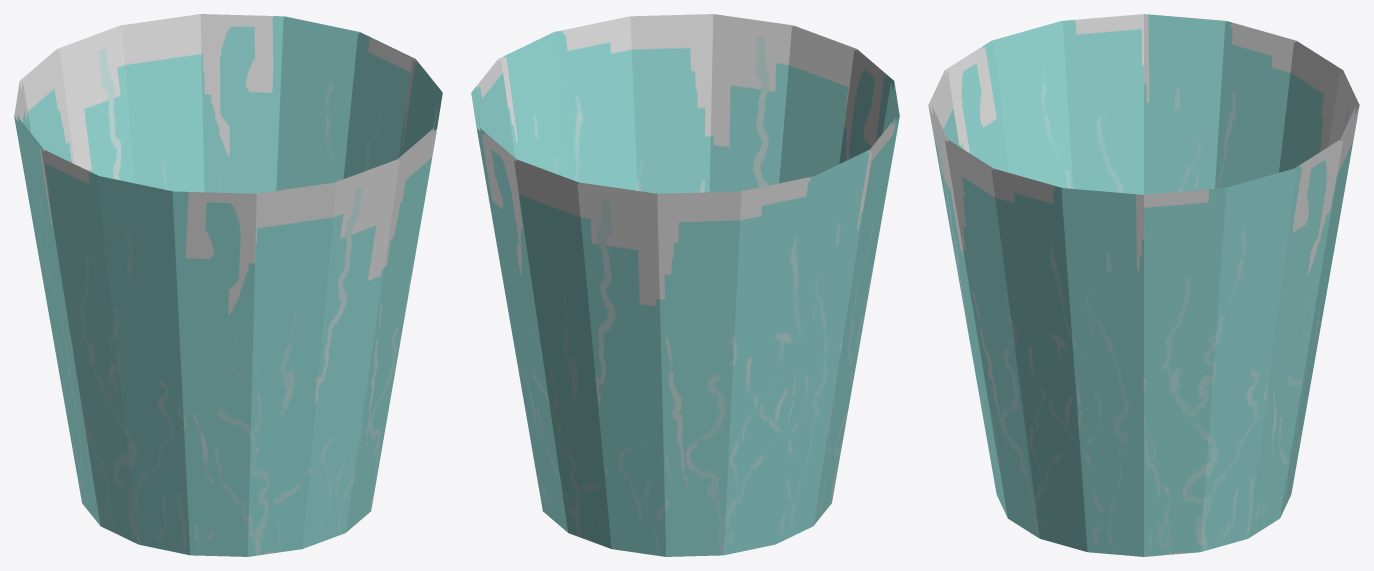
The model's file is SOS_props_LightningSparks_B_02.fbx.
3 views of the same model, side by side, from view 1: azimuth 30°, elevation 25°; view 2: azimuth 150°, elevation 25°; view 3: azimuth 270°, elevation 25° (orthographic).
Parts seen in each view (by area): view 1: Lightning Sparks B; view 2: Lightning Sparks B; view 3: Lightning Sparks B.
Boxes of the visible parts, left/top/right/bottom form: Lightning Sparks B: left=14, top=14, right=442, bottom=556; Lightning Sparks B: left=471, top=14, right=899, bottom=556; Lightning Sparks B: left=928, top=14, right=1359, bottom=556.
Size of the model in its own units: 259 by 258 by 259.
